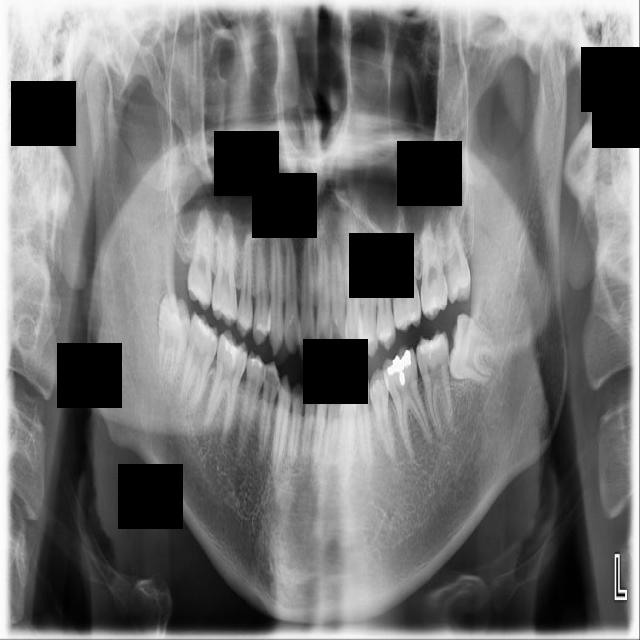52: (204, 326, 262, 382), (371, 341, 429, 397), (410, 327, 456, 381), (244, 350, 267, 393)
73: (597, 576, 601, 588)
BioHorizons Implant: (420, 220, 448, 321)
BioLife Implant: (433, 203, 474, 304)
Biomet 3i Implant: (446, 312, 500, 385)
Blue Sky Bio Implant: (414, 329, 456, 441)
Caries: (185, 210, 213, 311)
Implant: (177, 311, 223, 412)
Keystone Dental Implant: (157, 291, 191, 381)
